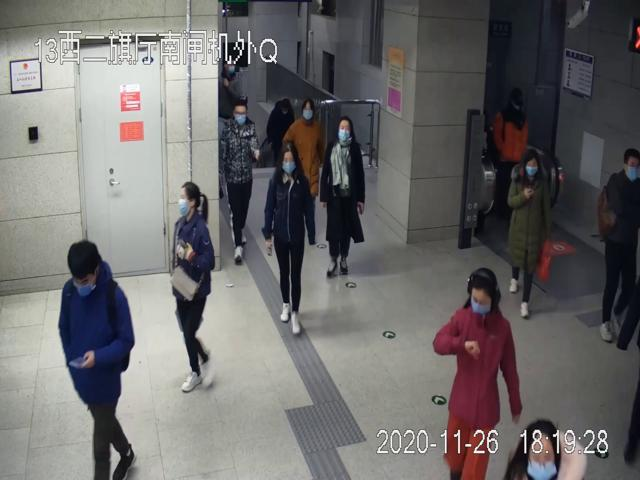person: (57, 239, 138, 480), (433, 266, 523, 480), (263, 141, 316, 335), (170, 182, 217, 391), (506, 149, 551, 316), (320, 113, 364, 276), (220, 100, 259, 262), (282, 97, 327, 236)
